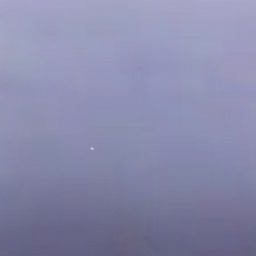Target: (89, 145, 96, 152)
